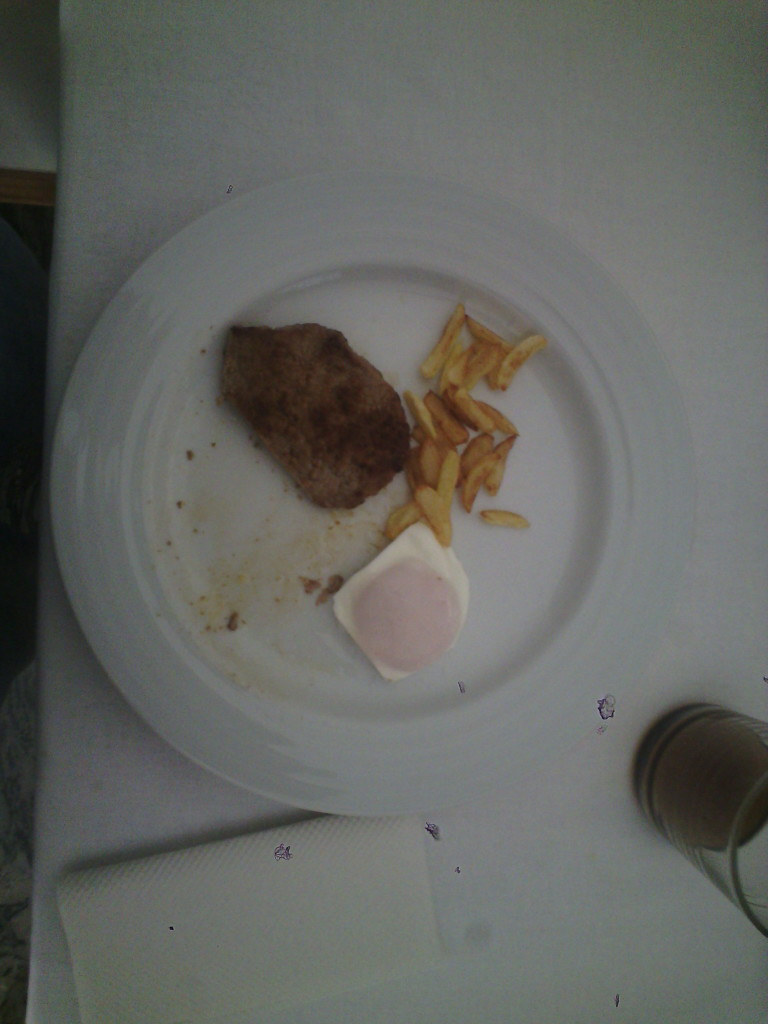41-60: (58, 170, 704, 819)
